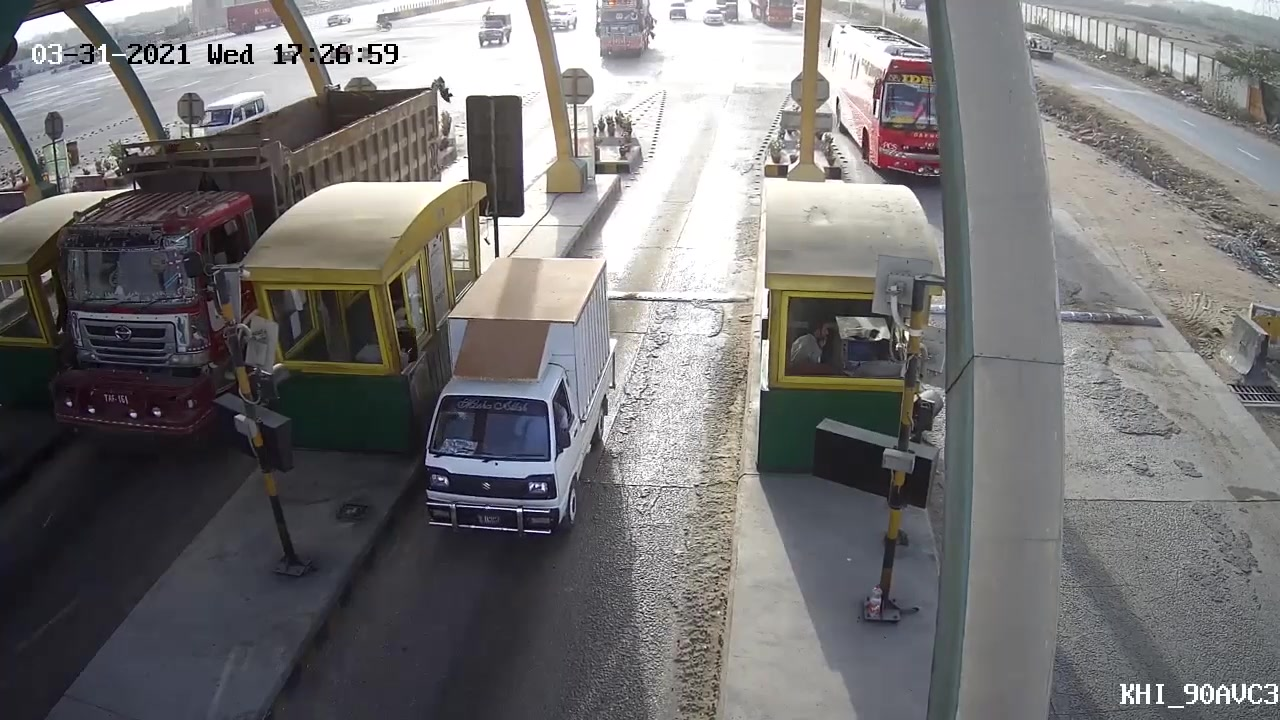F1: (411, 252, 616, 569)
